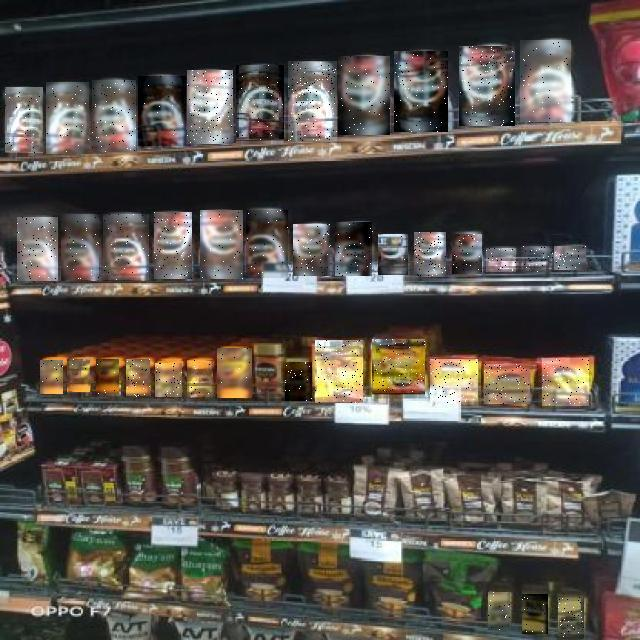Coffee: (459, 46, 515, 126), (394, 51, 448, 132), (520, 40, 571, 122), (339, 56, 391, 135), (288, 61, 337, 141), (236, 66, 284, 144), (187, 71, 233, 145), (139, 76, 187, 146), (92, 80, 136, 152), (46, 83, 89, 155), (372, 340, 425, 398), (103, 214, 149, 280), (315, 340, 363, 403), (200, 210, 243, 279), (246, 210, 288, 278), (17, 217, 58, 281), (5, 88, 43, 156), (154, 212, 192, 279), (61, 214, 99, 280), (542, 359, 589, 407), (431, 360, 479, 404), (336, 222, 374, 276), (294, 224, 332, 276), (484, 365, 530, 405), (217, 348, 252, 398), (414, 232, 446, 276), (378, 234, 408, 275), (452, 234, 482, 274), (559, 596, 585, 639), (285, 362, 312, 401), (523, 595, 549, 635), (187, 360, 213, 398), (155, 363, 182, 397), (127, 360, 151, 398), (488, 592, 510, 630), (521, 246, 553, 272), (67, 360, 90, 396), (96, 360, 119, 396), (40, 360, 63, 394), (554, 247, 586, 271), (487, 248, 517, 272)
